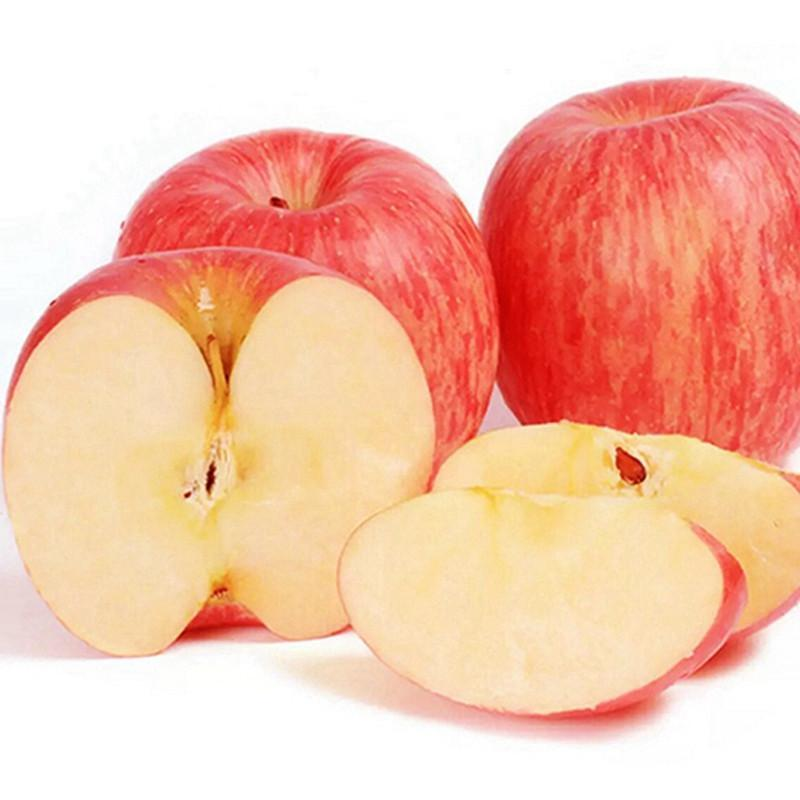apple: (107, 127, 499, 493), (481, 76, 799, 479)
